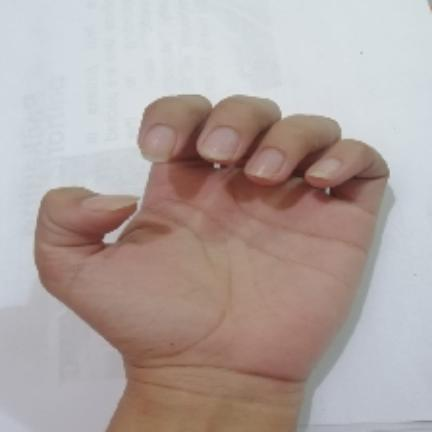Nail: (199, 127, 240, 162), (142, 125, 176, 162), (246, 148, 284, 179), (81, 195, 138, 212), (306, 158, 342, 180)
